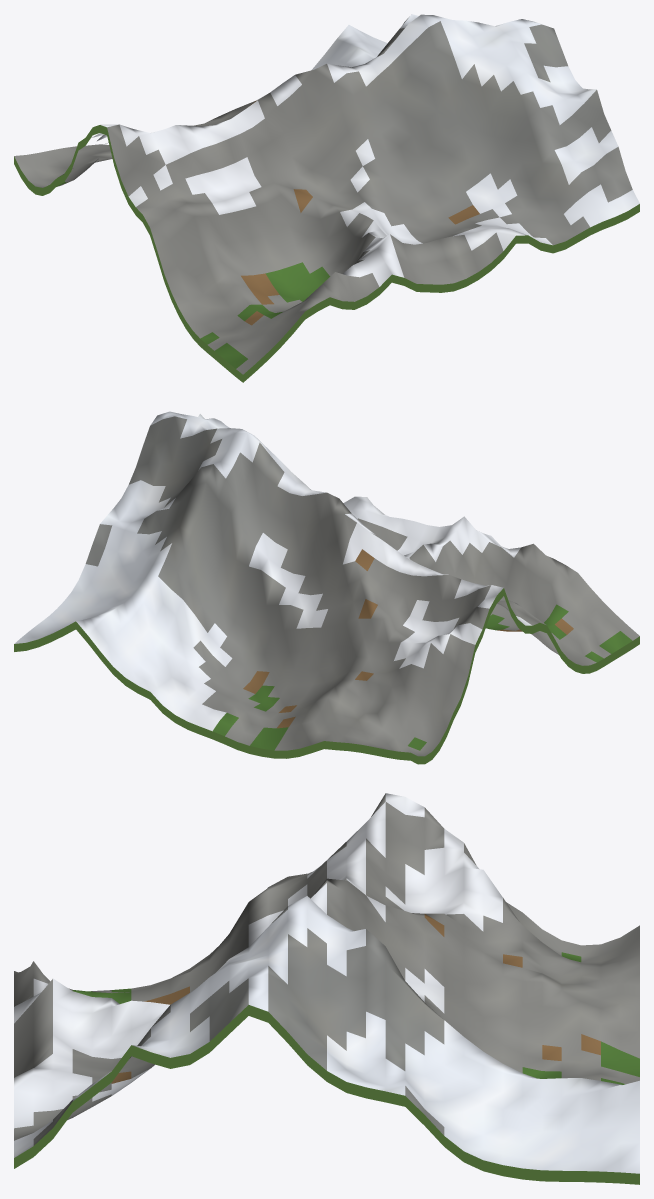
Rendered from chunk_4_0_lod1.glb.
3 renders of one model, top to bottom at view 1: azimuth 30°, elevation 25°; view 2: azimuth 150°, elevation 25°; view 3: azimuth 270°, elevation 25°, orthographic. The views are drawn at different scales.
Parts seen in each view (by area): view 1: Surface_Gravel, Surface_Snow, Skirt, Surface_Grass, Surface_Dirt; view 2: Surface_Gravel, Surface_Snow, Skirt, Surface_Grass, Surface_Dirt; view 3: Surface_Gravel, Surface_Snow, Skirt, Surface_Grass, Surface_Dirt.
Boxes of the visible parts, left/top/right/bottom form: Surface_Gravel: left=14, top=16, right=632, bottom=374; Surface_Snow: left=91, top=14, right=639, bottom=286; Skirt: left=14, top=125, right=639, bottom=382; Surface_Grass: left=48, top=181, right=330, bottom=368; Surface_Dirt: left=241, top=100, right=479, bottom=325; Surface_Gravel: left=85, top=416, right=639, bottom=756; Surface_Snow: left=14, top=411, right=531, bottom=731; Skirt: left=14, top=588, right=639, bottom=764; Surface_Grass: left=213, top=604, right=632, bottom=750; Surface_Dirt: left=243, top=549, right=573, bottom=728; Surface_Gravel: left=14, top=793, right=639, bottom=1145; Surface_Snow: left=14, top=793, right=639, bottom=1173; Skirt: left=14, top=1005, right=639, bottom=1184; Surface_Grass: left=72, top=952, right=639, bottom=1084; Surface_Dirt: left=111, top=914, right=600, bottom=1083.
Size of the model in its own units: 256 by 136 by 256.
